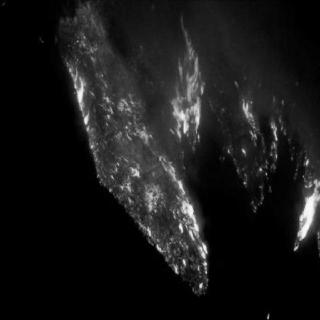Fire: (57, 2, 319, 300)
